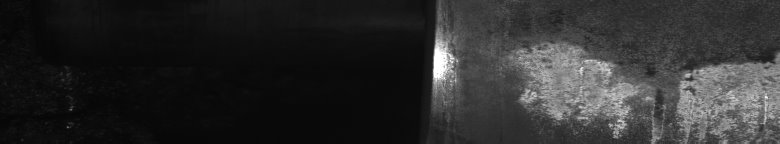kb: (444, 41, 776, 136)
